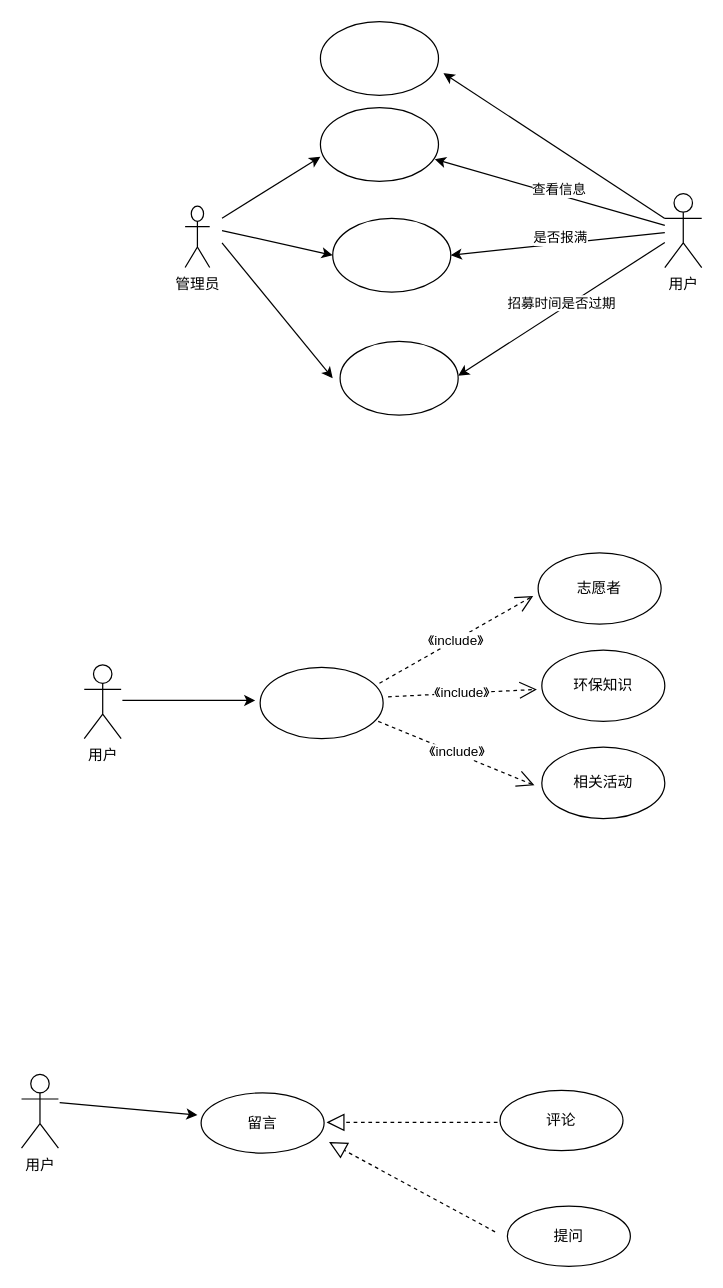
Image size: 723x1288. Some labels were removed from this diagram. Here are the shapes that lost their labels. From the top down, the box of each, then its label:
(319, 20, 438, 95): 填写个人信息
(319, 106, 438, 181): 发布招募信息
(331, 217, 451, 292): 招募人数
(339, 340, 458, 415): 招募时间
(259, 666, 383, 739): 关键词搜索
